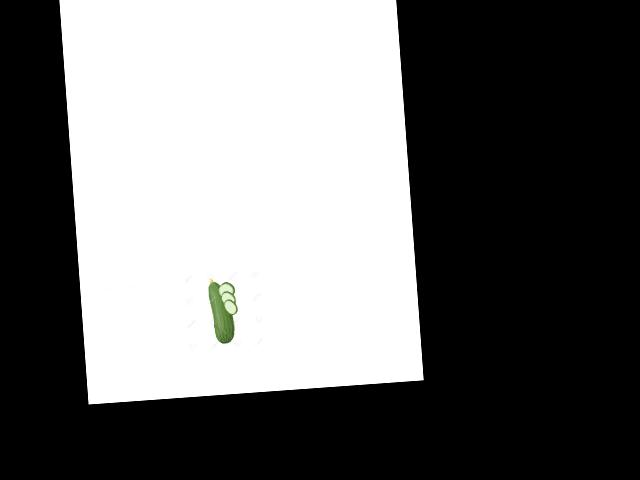cucumber: (208, 277, 235, 345)
